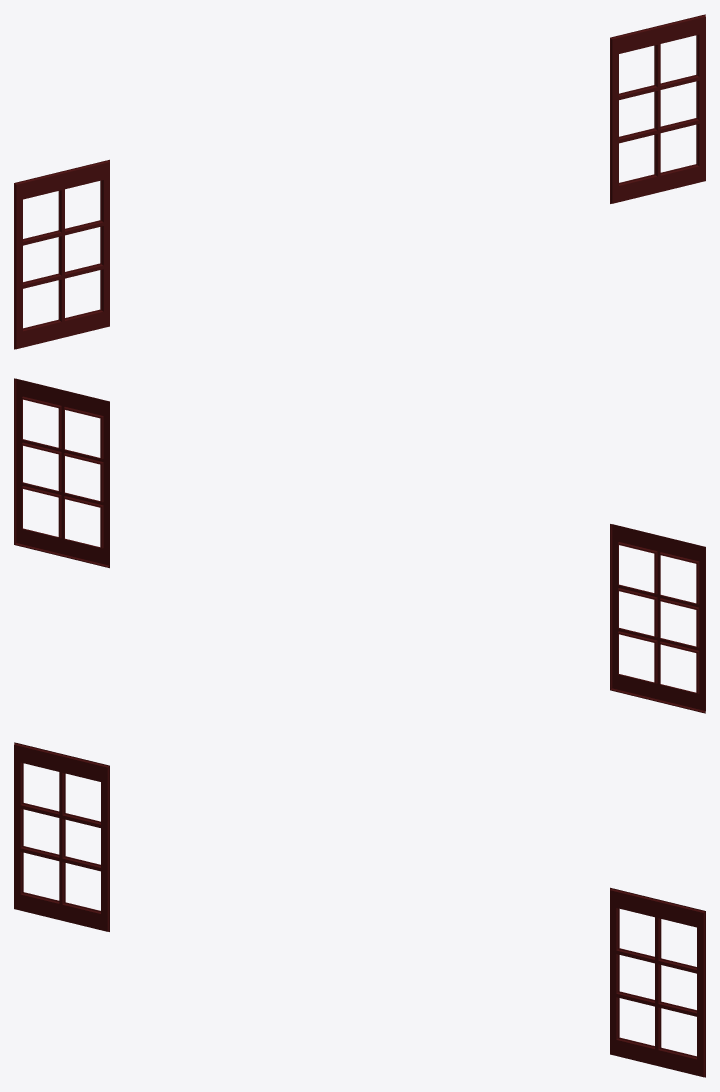
Rendered from FairyTale290.gltf.
The picture shows the model from 3 angles, top to bottom: view 1: azimuth 30°, elevation 25°; view 2: azimuth 150°, elevation 25°; view 3: azimuth 330°, elevation 25°; orthographic projection.
Parts seen in each view (by area): view 1: HouseMD05_WoodDark001; view 2: HouseMD05_WoodDark001; view 3: HouseMD05_WoodDark001.
Part boxes in pixels (x1=…): HouseMD05_WoodDark001: x1=14, y1=14, x2=705, y2=349; HouseMD05_WoodDark001: x1=14, y1=378, x2=705, y2=713; HouseMD05_WoodDark001: x1=14, y1=742, x2=705, y2=1077.
Bounding box in the file's own units: 9.63 × 2.22 × 0.0491.
